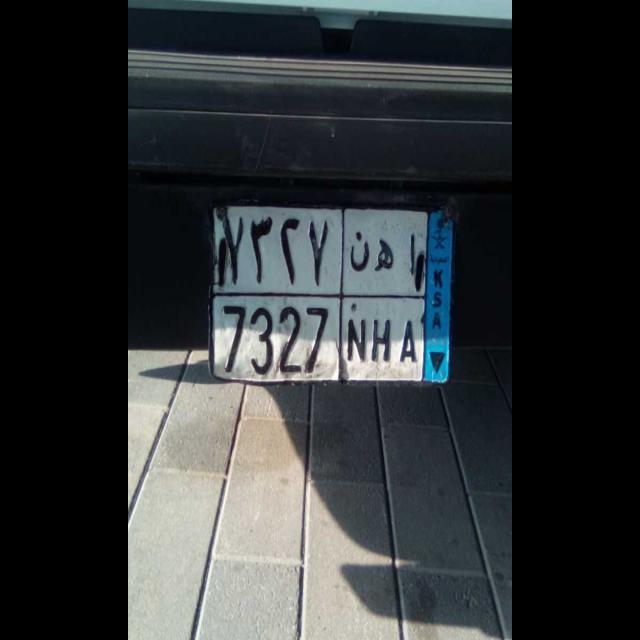license_plate: (206, 292, 424, 391)
